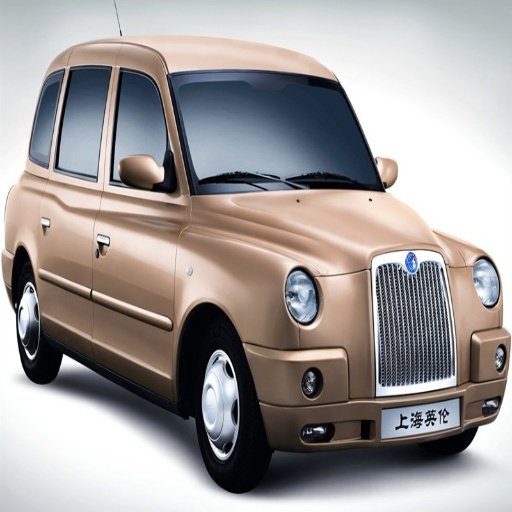front_bumper: (251, 250, 509, 446)
front_right_door: (93, 64, 189, 386)
front_right_light: (285, 268, 319, 323)
hood: (230, 190, 431, 275)
